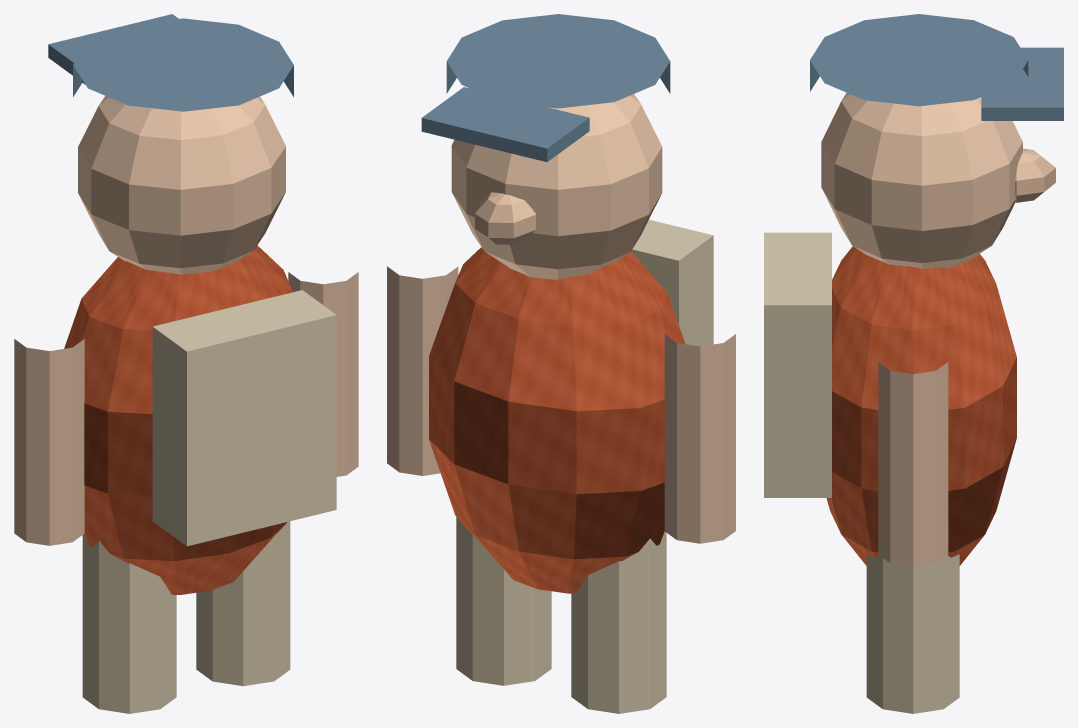
File: crew_member.gltf
3 views of the same model, side by side, from view 1: azimuth 30°, elevation 25°; view 2: azimuth 150°, elevation 25°; view 3: azimuth 270°, elevation 25° (orthographic). The views are drawn at different scales.
Parts seen in each view (by area): view 1: Backpack, Torso, Head, Cap, LeftArm, LeftLeg, RightLeg, RightArm, CapBrim; view 2: Torso, Head, Cap, LeftLeg, LeftArm, RightLeg, RightArm, CapBrim, Backpack, Nose; view 3: Torso, Head, Backpack, Cap, RightLeg, RightArm, CapBrim, Nose.
Boxes of the visible parts, bbox=[...] form: Backpack: bbox=[152, 290, 336, 546]; Torso: bbox=[64, 245, 292, 594]; Head: bbox=[78, 96, 285, 274]; Cap: bbox=[73, 18, 293, 111]; LeftArm: bbox=[14, 339, 84, 545]; LeftLeg: bbox=[82, 534, 176, 713]; RightLeg: bbox=[196, 521, 290, 686]; RightArm: bbox=[288, 272, 358, 476]; CapBrim: bbox=[48, 14, 178, 84]; Torso: bbox=[429, 247, 685, 593]; Head: bbox=[451, 94, 662, 279]; Cap: bbox=[446, 14, 670, 108]; LeftLeg: bbox=[571, 531, 666, 713]; LeftArm: bbox=[664, 334, 735, 543]; RightLeg: bbox=[456, 517, 551, 685]; RightArm: bbox=[387, 266, 458, 475]; CapBrim: bbox=[421, 87, 589, 161]; Backpack: bbox=[631, 219, 713, 346]; Nose: bbox=[475, 192, 536, 244]; Torso: bbox=[826, 246, 1016, 565]; Head: bbox=[821, 92, 1022, 268]; Backpack: bbox=[764, 232, 831, 497]; Cap: bbox=[810, 14, 1028, 106]; RightLeg: bbox=[866, 554, 959, 713]; RightArm: bbox=[878, 362, 948, 566]; CapBrim: bbox=[981, 47, 1063, 120]; Nose: bbox=[1014, 148, 1055, 202].
Bounding box in the file's own units: 1.29 × 2.26 × 1.02.
4 materials, 1 textured.
